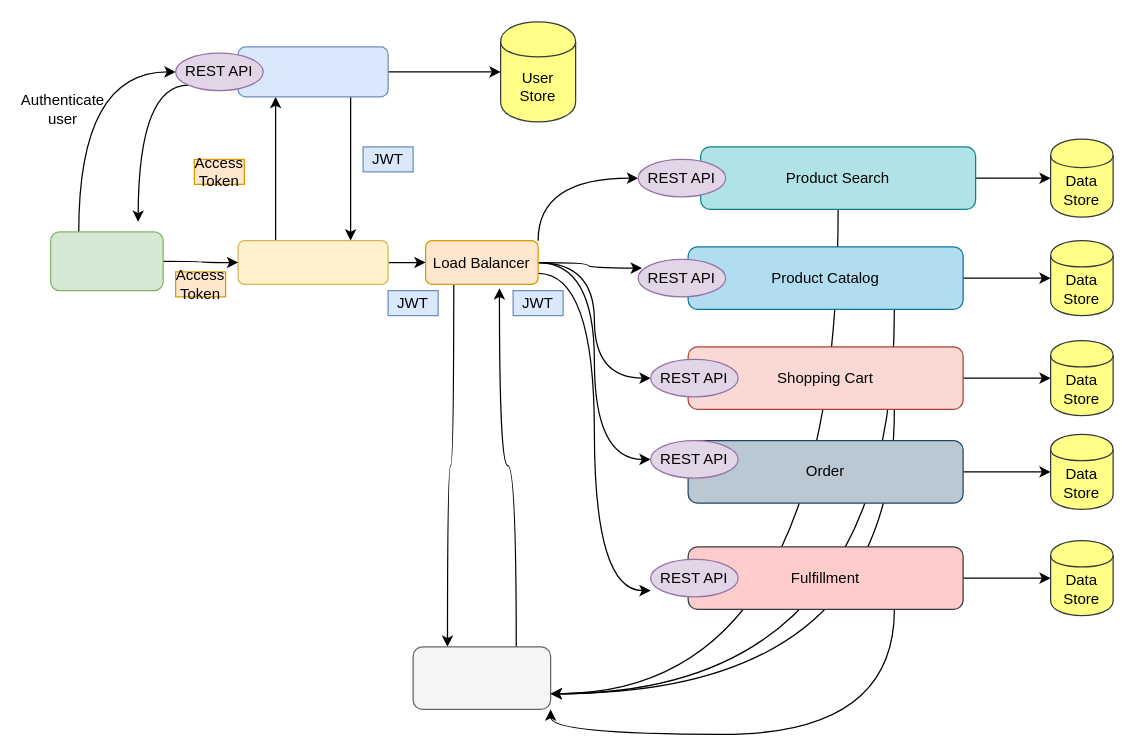
This 1135x756 diagram has some shape labels left out. Here are the shapes that lost their labels. From the top down, the centre of each, then its label:
At (312,71): "Auth Server".
At (106,261): "Client".
At (312,261): "API Gateway".
At (481,677): "Service Registry".
